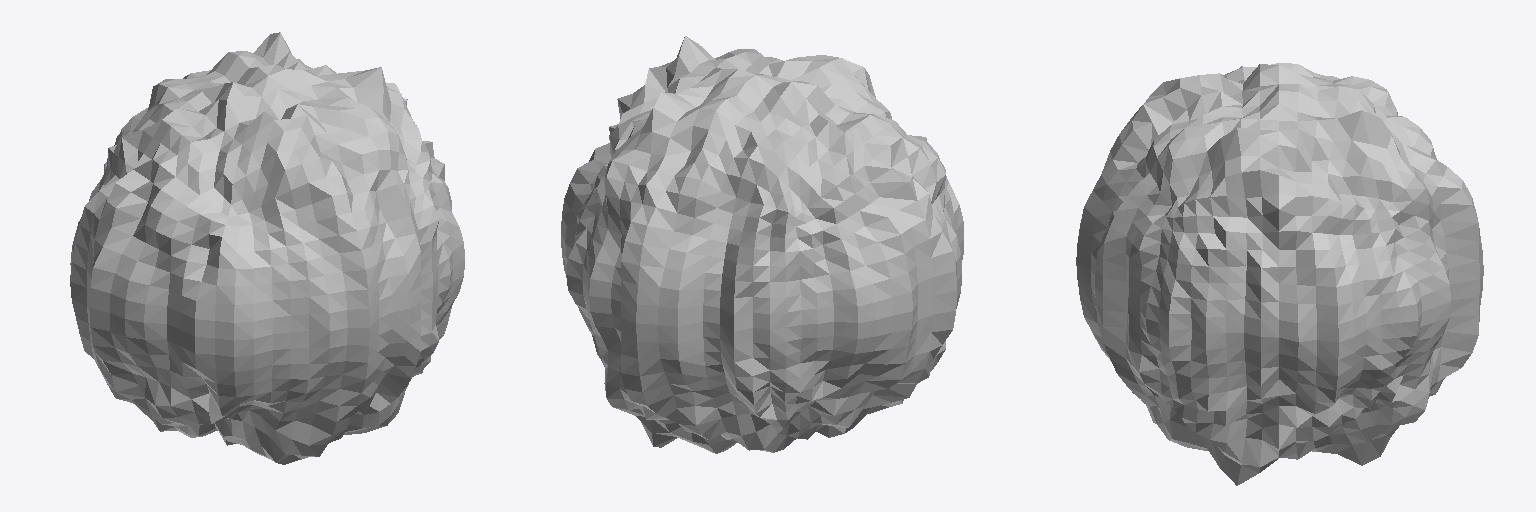
The model's file is asteroid88.obj.
3 renders of one model, left to right at view 1: azimuth 30°, elevation 25°; view 2: azimuth 150°, elevation 25°; view 3: azimuth 270°, elevation 25°, orthographic.
Visible parts, largest first — view 1: Cube_Cube.002; view 2: Cube_Cube.002; view 3: Cube_Cube.002.
Boxes of the visible parts, x1=… form: Cube_Cube.002: x1=70, y1=32, x2=464, y2=464; Cube_Cube.002: x1=561, y1=36, x2=963, y2=453; Cube_Cube.002: x1=1076, y1=63, x2=1483, y2=485.
Bounding box in the file's own units: 1.83 × 1.77 × 1.82.